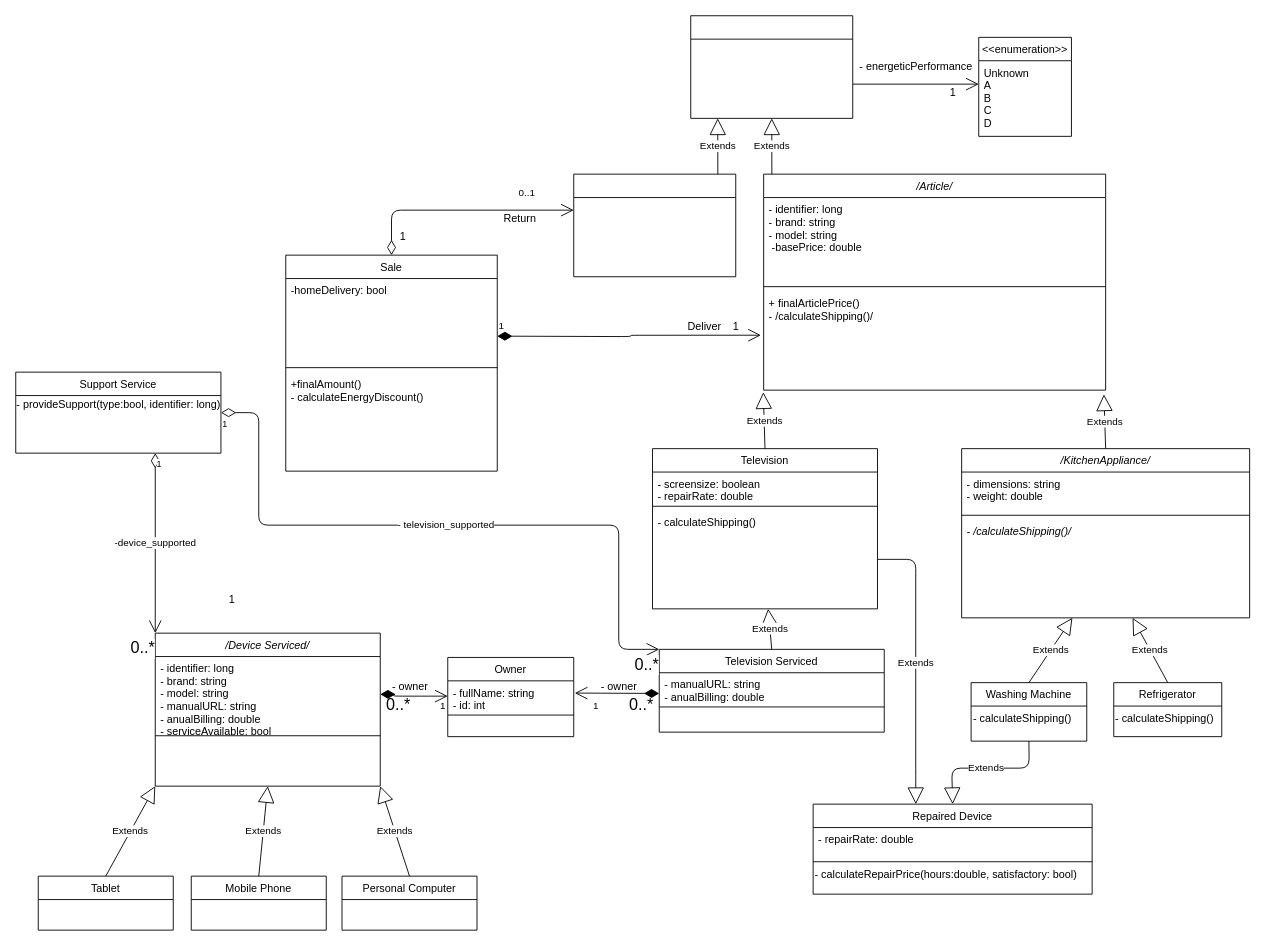
Some shapes in this 1265 by 946 pixel diagram are drawn without their labels. The centre of each missing label's shape, as x and y in pixels:
"Appliance" belongs at (x=771, y=66).
"Old" belongs at (x=654, y=225).
